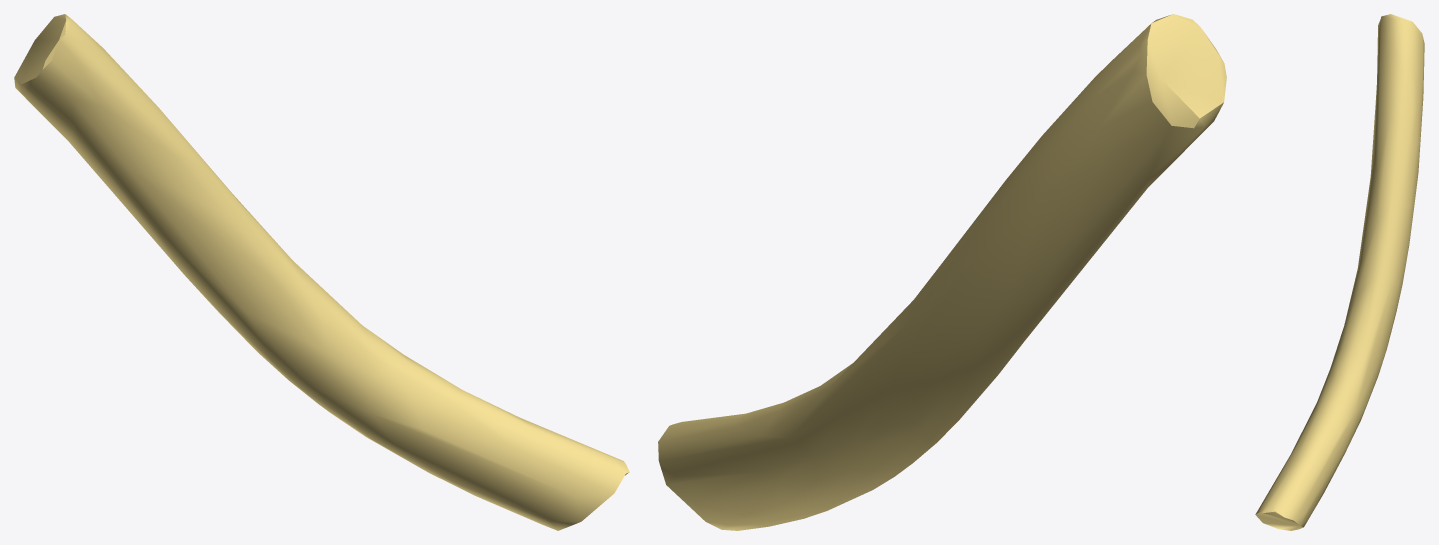
The model's file is fma45239_fj4274.glb.
3 renders of one model, left to right at view 1: azimuth 30°, elevation 25°; view 2: azimuth 150°, elevation 25°; view 3: azimuth 270°, elevation 25°, orthographic. The views are drawn at different scales.
Parts seen in each view (by area): view 1: FMA45239_FJ4274; view 2: FMA45239_FJ4274; view 3: FMA45239_FJ4274.
Boxes of the visible parts, box(x1,y1,x2,y2) form: FMA45239_FJ4274: box(14, 14, 629, 530); FMA45239_FJ4274: box(658, 14, 1226, 530); FMA45239_FJ4274: box(1255, 14, 1424, 530).
Size of the model in its own units: 0.0262 by 0.0267 by 0.0109.
